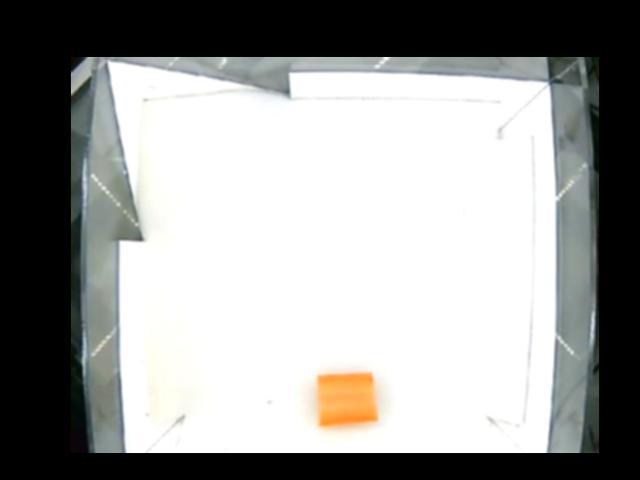Carrot: (312, 371, 381, 427)
